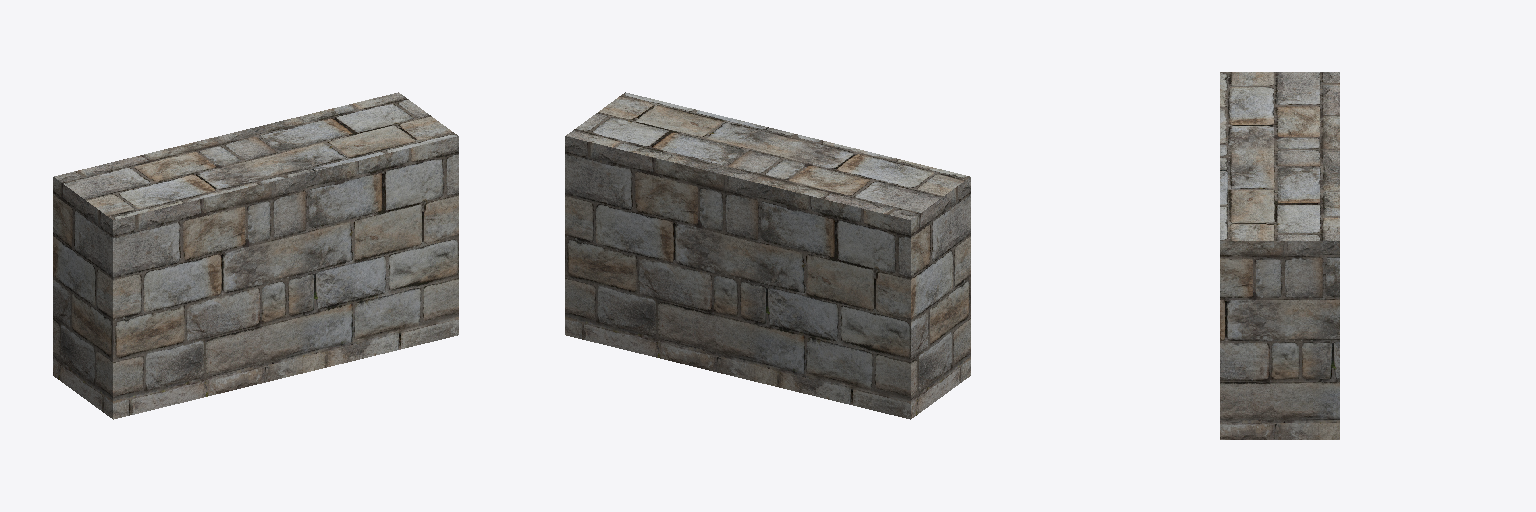
3 renders of one model, left to right at view 1: azimuth 30°, elevation 25°; view 2: azimuth 150°, elevation 25°; view 3: azimuth 270°, elevation 25°, orthographic.
Visible parts, largest first — view 1: wall_top; view 2: wall_top; view 3: wall_top.
Boxes of the visible parts, <box> form: wall_top: <box>53,92,458,419</box>; wall_top: <box>565,92,970,419</box>; wall_top: <box>1220,72,1339,439</box>.
Size of the model in its own units: 21.93 by 12.09 by 6.58.
1 materials, 1 textured.